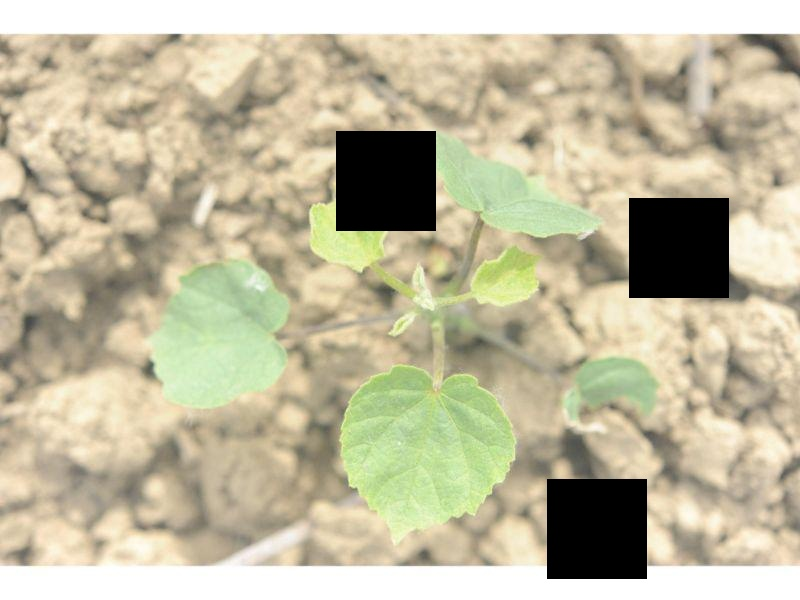velvet: (150, 129, 660, 543)
